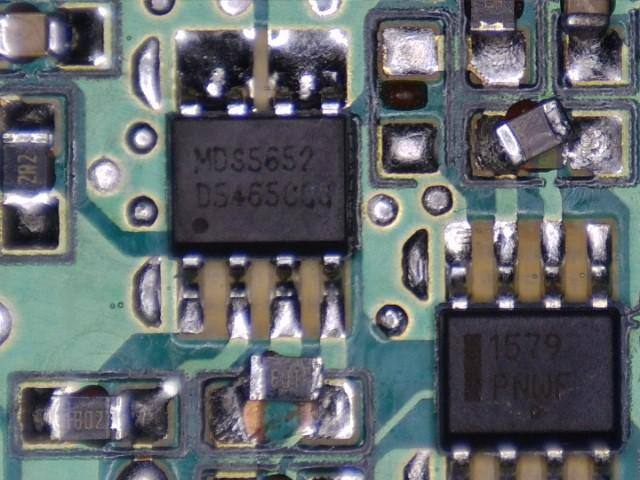Incorrect_installation: (210, 356, 354, 445), (477, 97, 625, 176), (562, 1, 624, 82), (470, 1, 527, 85)
